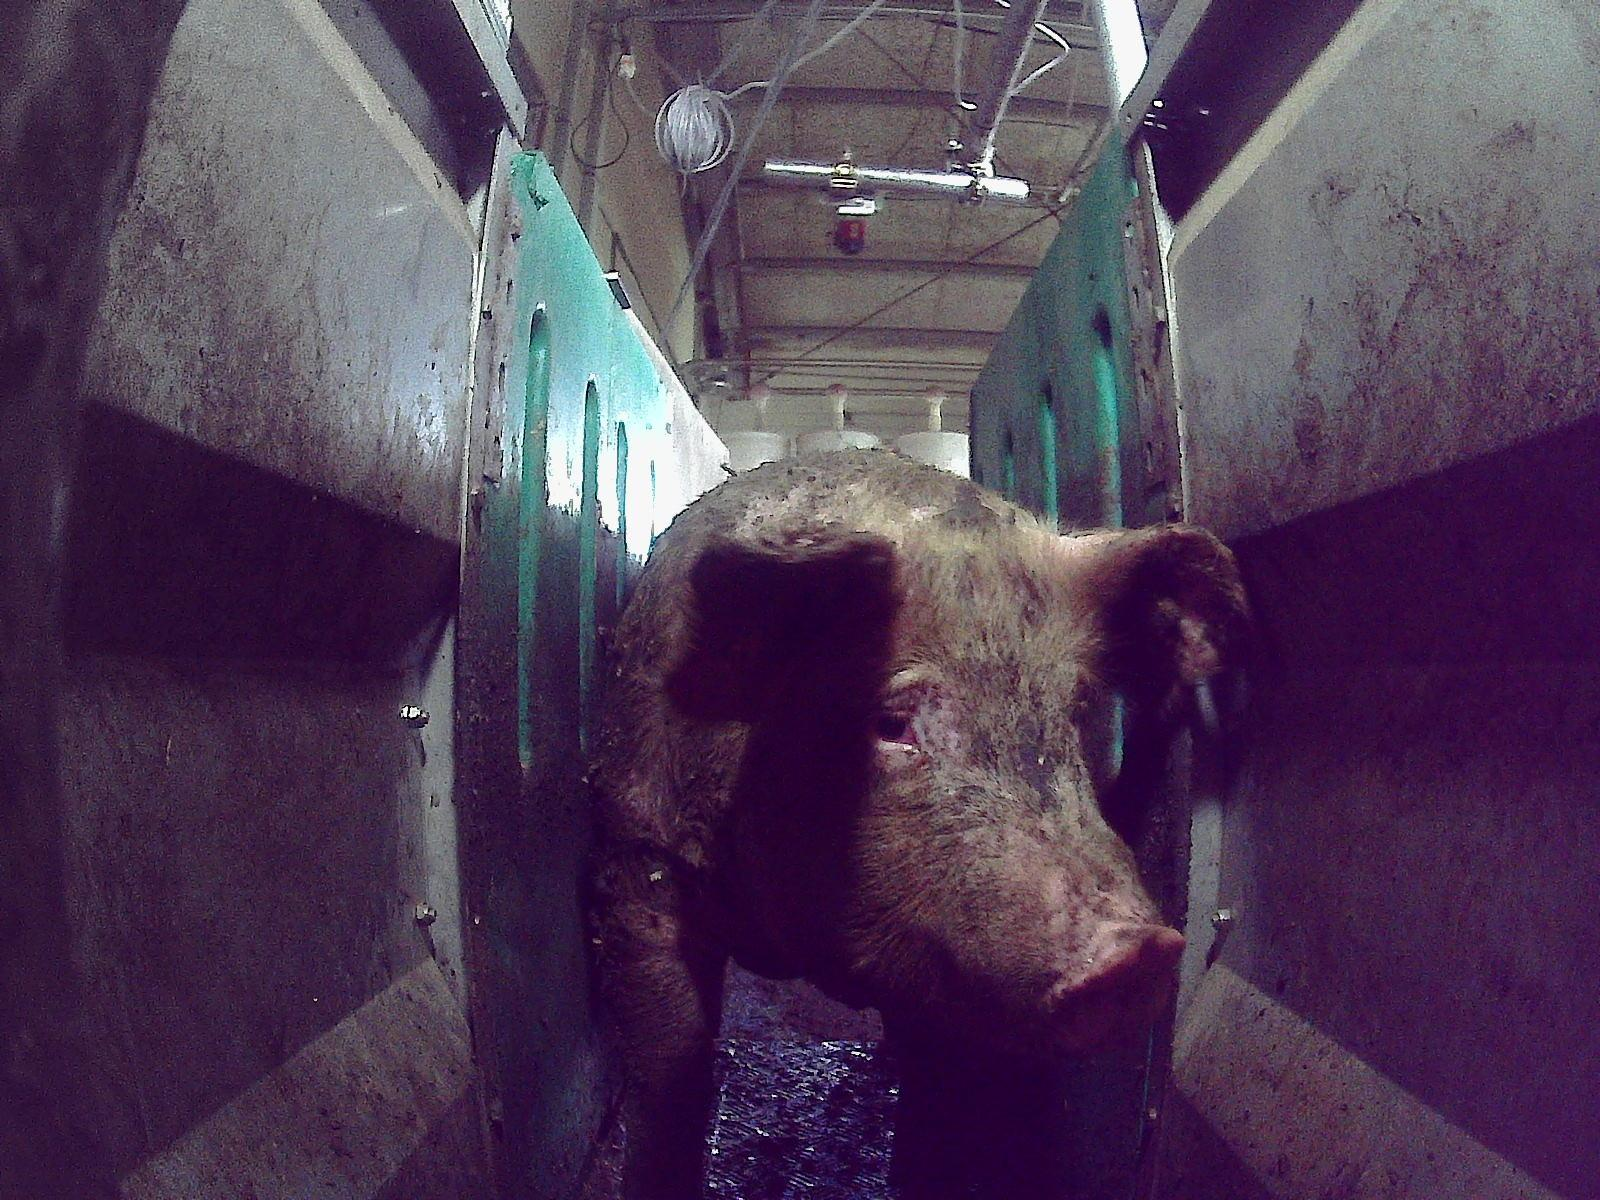Face: (773, 553, 1181, 1057)
